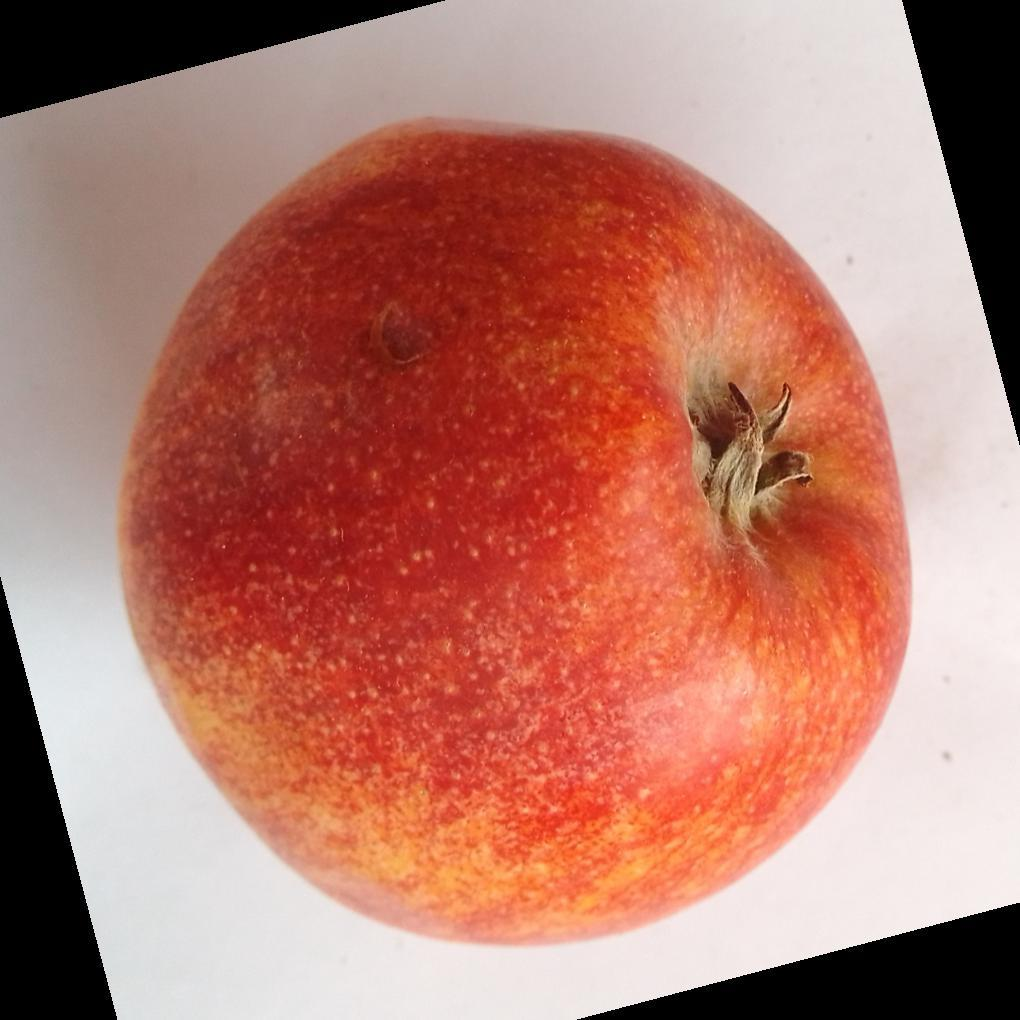FreshGuava: (114, 119, 914, 951)
